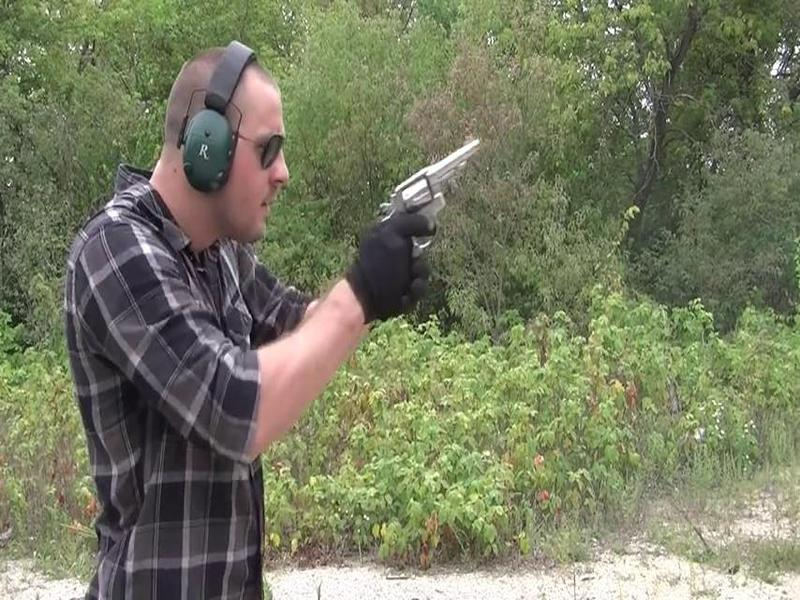Revolver: (373, 129, 486, 249)
